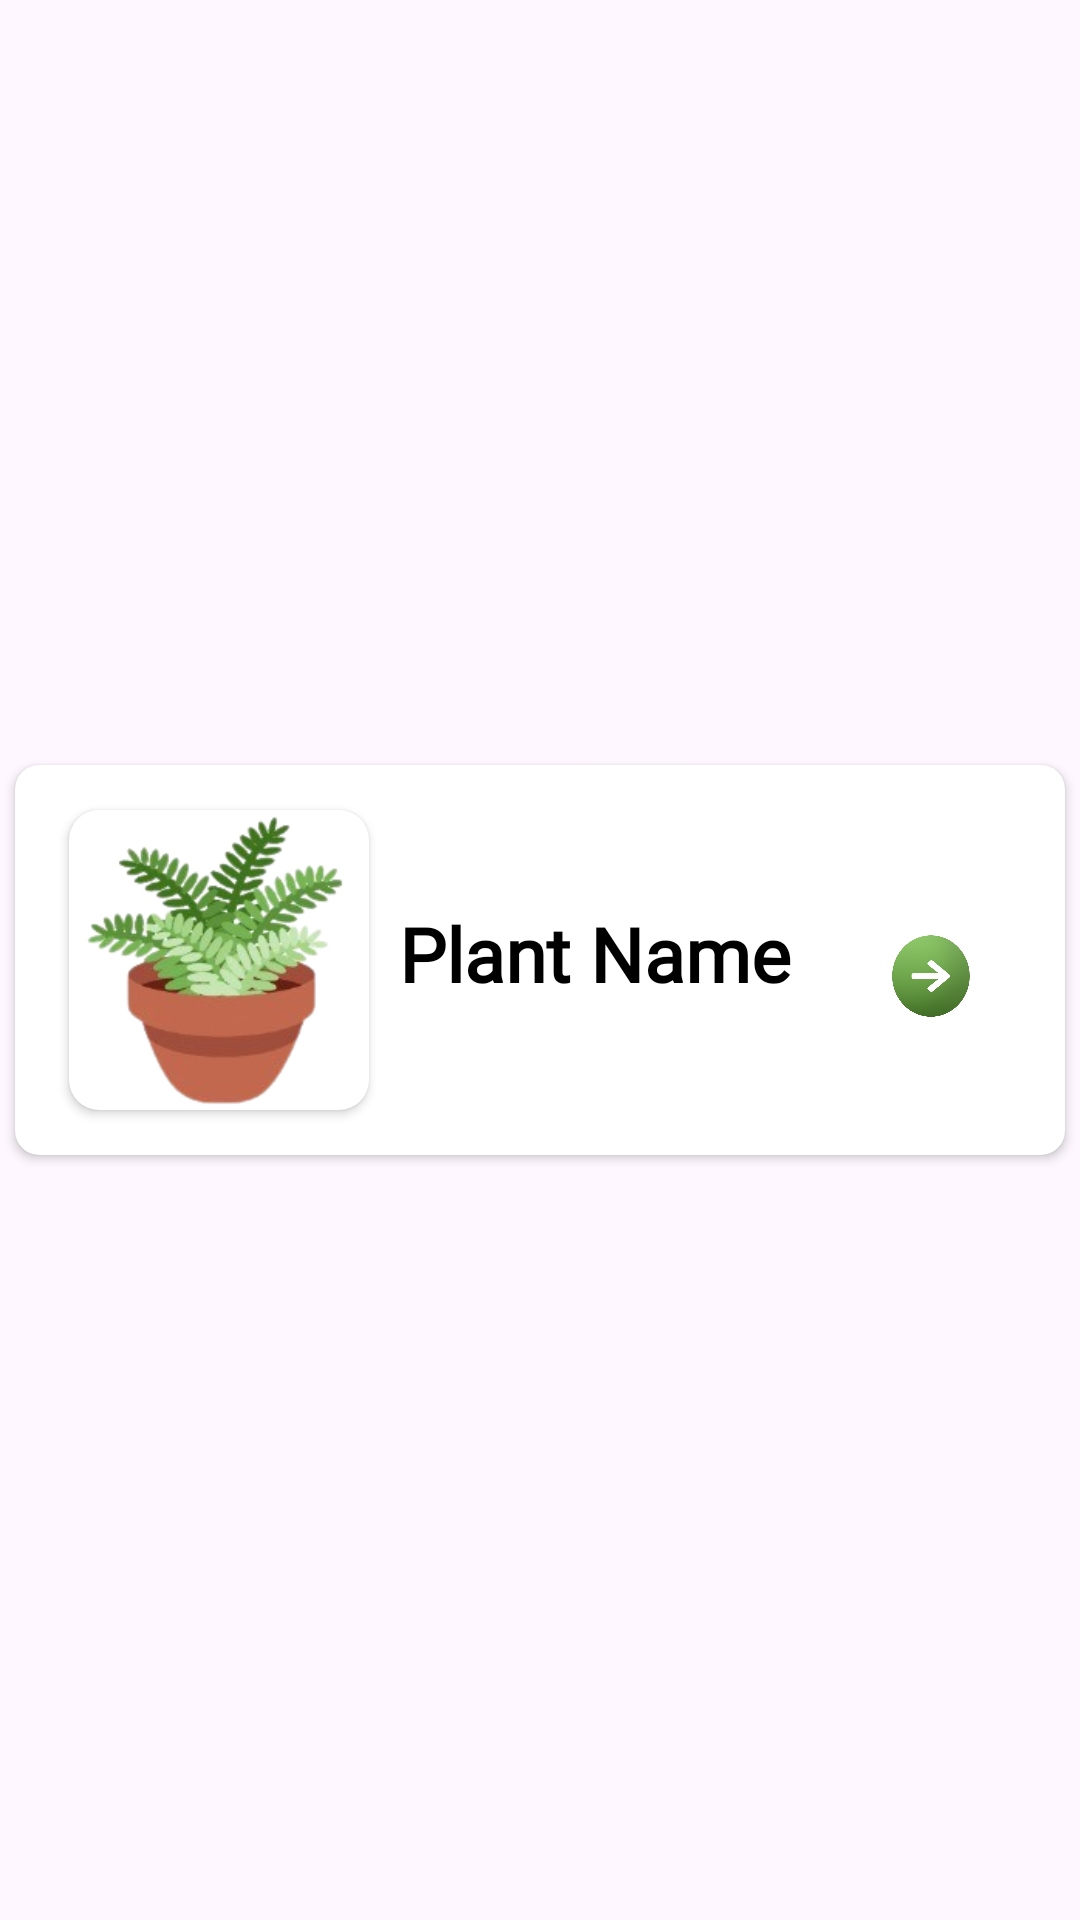

Named icons in this screenshot (1080px×1920px) and their centers, (x,y):
plant arrow: (931,976)
